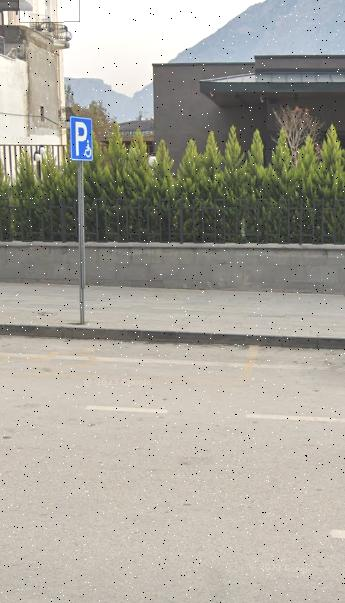disabledpark: (71, 117, 94, 162)
